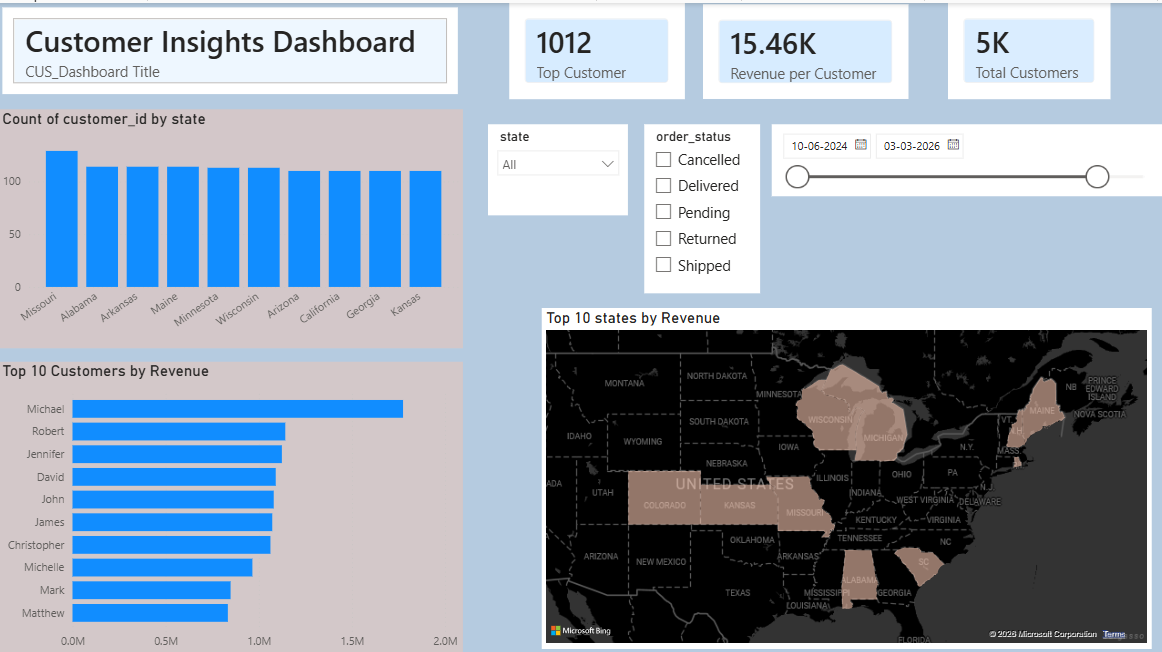

What the dashboard file says about the page in this screenshot:
{"tool":"powerbi","page":{"name":"Page 3","canvas":[1280,720],"ordinal":2},"visuals":[{"type":"cardVisual","fields":{"Data":["Date_Table.CUS_Dashboard Title"]},"box":[0,0,510.3,105.5],"z":0},{"type":"cardVisual","fields":{"Data":["customers.Total Customers"]},"box":[1043.4,0,178.2,105.5],"z":1000},{"type":"cardVisual","fields":{"Data":["order_items.Revenue per Customer"]},"box":[774,1.4,225.2,104.1],"z":2000},{"type":"cardVisual","fields":{"Data":["customers.Top Customer"]},"box":[561.6,0,192.4,105.5],"z":3000},{"type":"filledMap","title":"Top 10 states by Revenue","fields":{"Category":["customers.state"]},"box":[597.2,335,669.9,373.5],"z":4000},{"type":"slicer","fields":{"Values":["Date_Table.Date"]},"box":[849.5,132.6,430.5,78.4],"z":5000},{"type":"slicer","fields":{"Values":["customers.state"]},"box":[537.4,132.6,153.9,99.8],"z":6000},{"type":"slicer","fields":{"Values":["orders.order_status"]},"box":[709.8,132.6,126.9,185.3],"z":7000},{"type":"columnChart","fields":{"Category":["customers.state"],"Y":["CountNonNull(customers.customer_id)"]},"box":[0,116.9,510.3,262.3],"z":8000},{"type":"barChart","title":"Top 10 Customers by Revenue","fields":{"Y":["order_items.Total Revenue"],"Category":["customers.f_name"]},"box":[0,394,510,325],"z":9000}]}

Visuals, with their boxes in screenshot pixels (x1, y1, x2, y2), scaled from the page's 1280x720 canvas onto the 1162x652 screenshot:
cardVisual - Date_Table.CUS_Dashboard Title: x1=0 y1=0 x2=463 y2=96
cardVisual - customers.Total Customers: x1=947 y1=0 x2=1109 y2=96
cardVisual - order_items.Revenue per Customer: x1=703 y1=1 x2=907 y2=96
cardVisual - customers.Top Customer: x1=510 y1=0 x2=684 y2=96
"Top 10 states by Revenue" filledMap: x1=542 y1=303 x2=1150 y2=642
slicer - Date_Table.Date: x1=771 y1=120 x2=1161 y2=191
slicer - customers.state: x1=488 y1=120 x2=628 y2=210
slicer - orders.order_status: x1=644 y1=120 x2=760 y2=288
columnChart - customers.state x CountNonNull(customers.customer_id): x1=0 y1=106 x2=463 y2=343
"Top 10 Customers by Revenue" barChart: x1=0 y1=357 x2=463 y2=651
